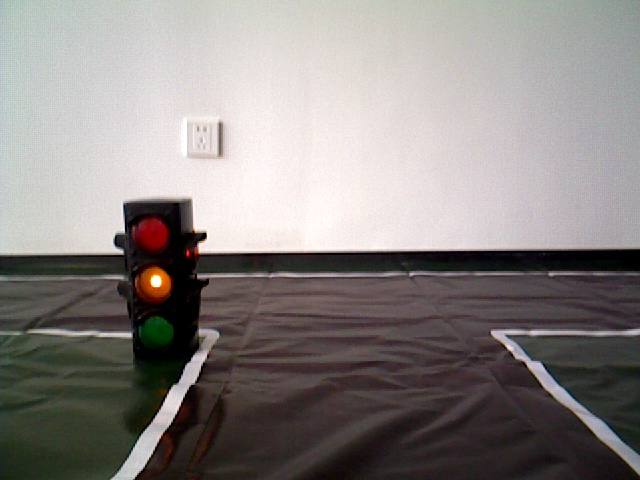yellow: (117, 195, 203, 365)
